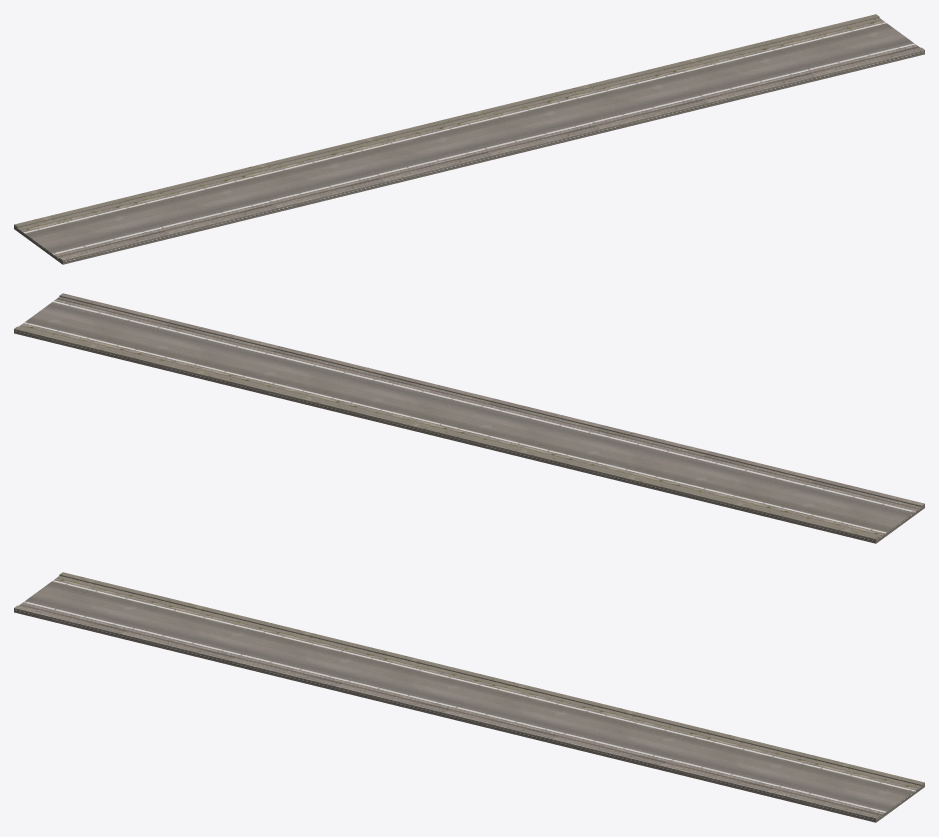
File: smallroad.obj
3 renders of one model, top to bottom at view 1: azimuth 30°, elevation 25°; view 2: azimuth 150°, elevation 25°; view 3: azimuth 330°, elevation 25°, orthographic.
Visible parts, largest first — view 1: Cube; view 2: Cube; view 3: Cube.
Part boxes in pixels (<box>): Cube: <box>14,14,924,264</box>; Cube: <box>14,293,924,543</box>; Cube: <box>14,572,924,822</box>.
Bounding box in the file's own units: 63.82 × 0.3214 × 6.26.
